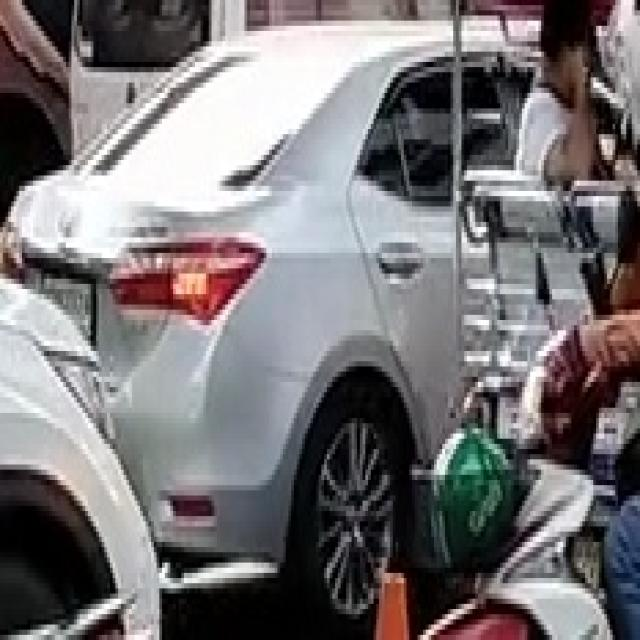door: (346, 52, 503, 459)
helmet: (428, 418, 514, 568)
tyre: (286, 366, 414, 620)
